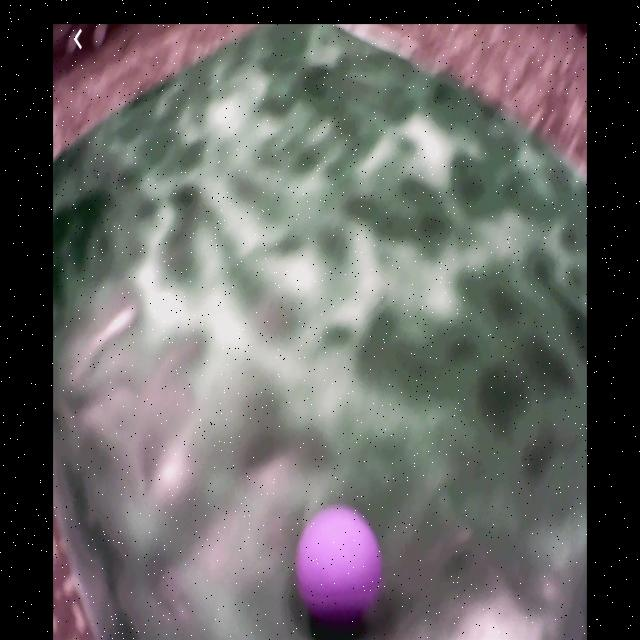ball: (299, 510, 382, 618)
